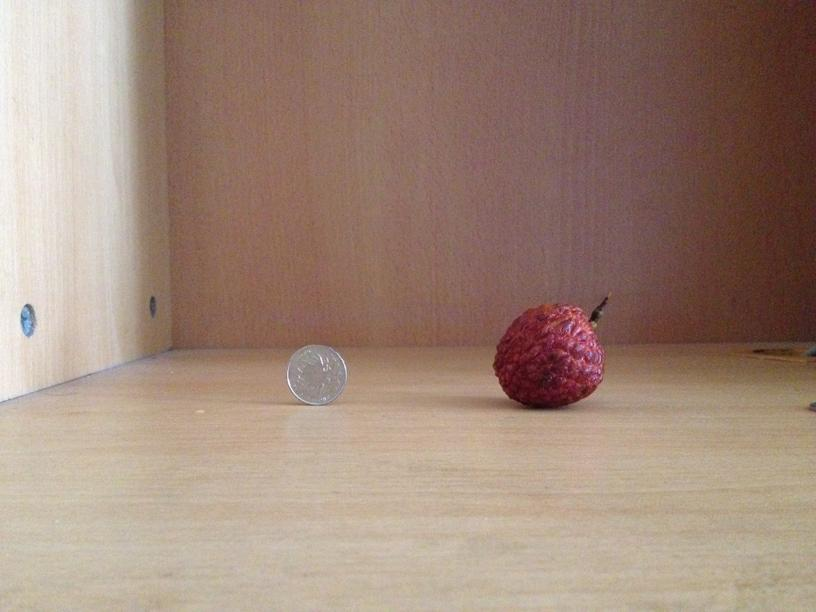coin: (283, 344, 346, 407)
litchi: (488, 300, 604, 410)
